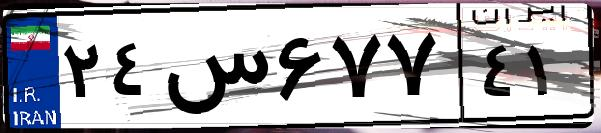1: (525, 38, 570, 115)
2: (57, 26, 110, 100)
4: (475, 38, 525, 113), (110, 28, 158, 98)
6: (270, 28, 330, 110)
7: (385, 28, 445, 110), (330, 28, 385, 110)
س: (158, 20, 270, 120)
